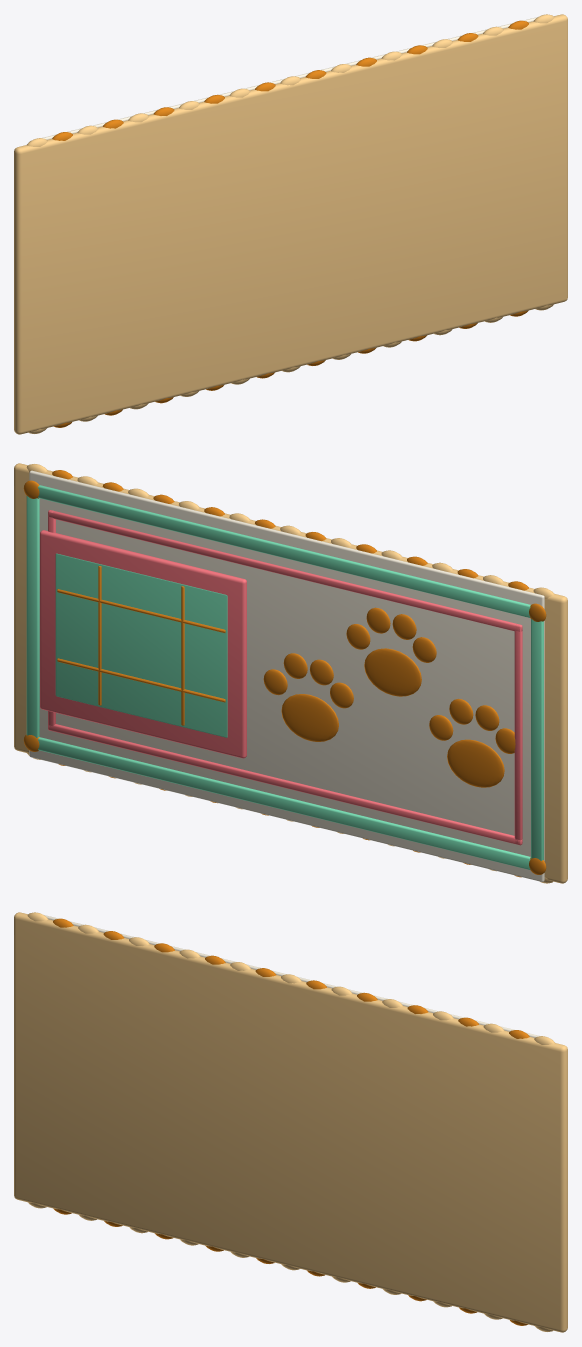
The model's file is KitchenPawMat_Premium.fbx.
3 renders of one model, top to bottom at view 1: azimuth 30°, elevation 25°; view 2: azimuth 150°, elevation 25°; view 3: azimuth 330°, elevation 25°, orthographic.
Parts seen in each view (by area): view 1: KitchenPawMat; view 2: KitchenPawMat; view 3: KitchenPawMat.
Part boxes in pixels (x1,y1,x2,y2): KitchenPawMat: (14, 14, 567, 434); KitchenPawMat: (14, 463, 567, 883); KitchenPawMat: (14, 912, 567, 1332).
Bounding box in the file's own units: 2.2 × 1.12 × 0.0854.
